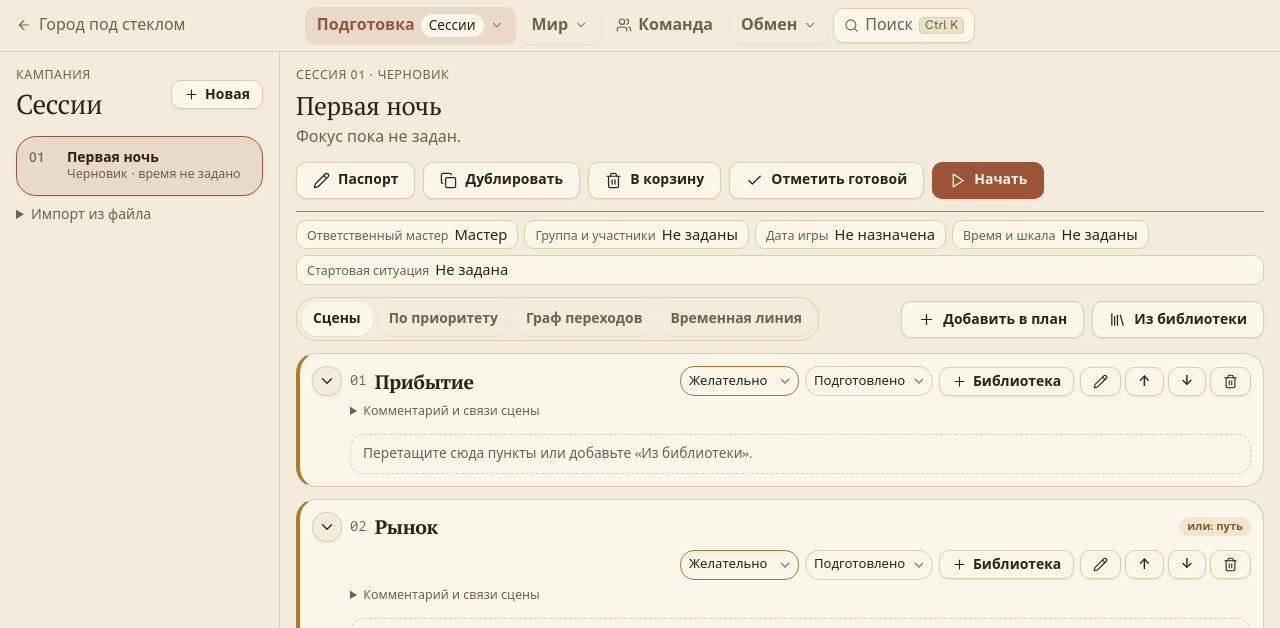
Test: stage 3: plan › shows forks on the timeline and opens the transitions graph
What coordinates should you click on to do the following:
click the button "Временная линия"
I would click on:
 (736, 319)
Its box is [658,302,814,336].
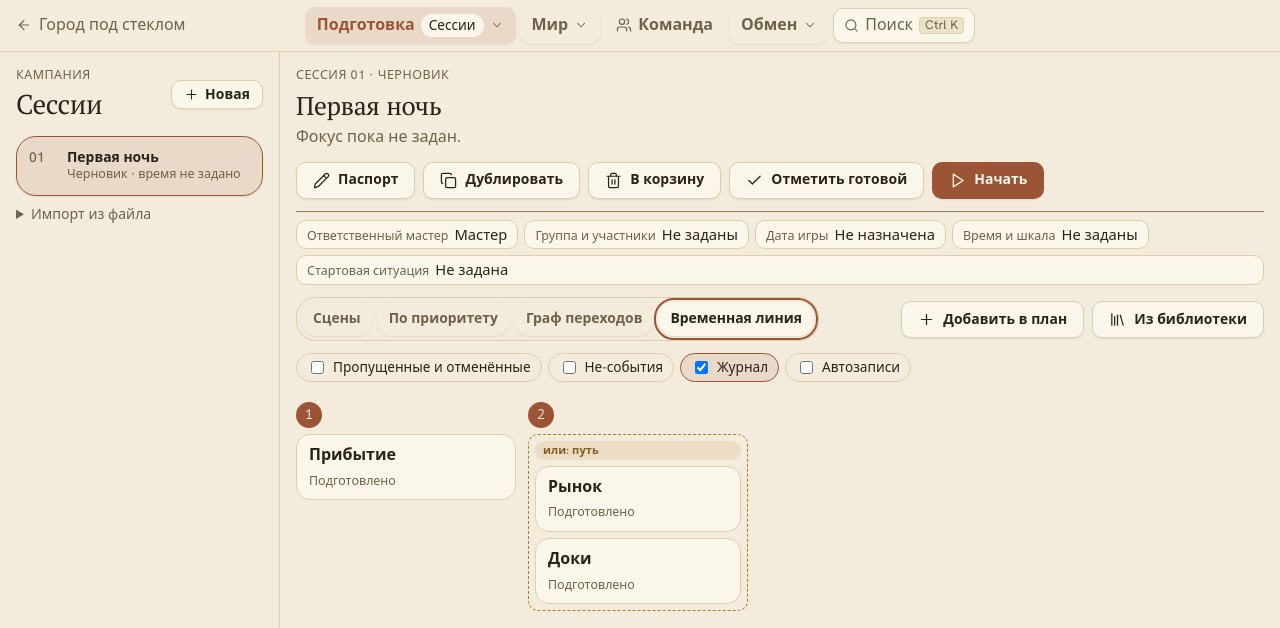
Expected: the text "Рынок" is shown, [548,476,602,497]
Expected: the text "Доки" is shown, [548,548,592,569]
What coordinates should you click on to do the following:
click the button "Граф переходов"
I would click on:
 (584, 319)
Its box is [514,302,654,336].
(page scrolled)
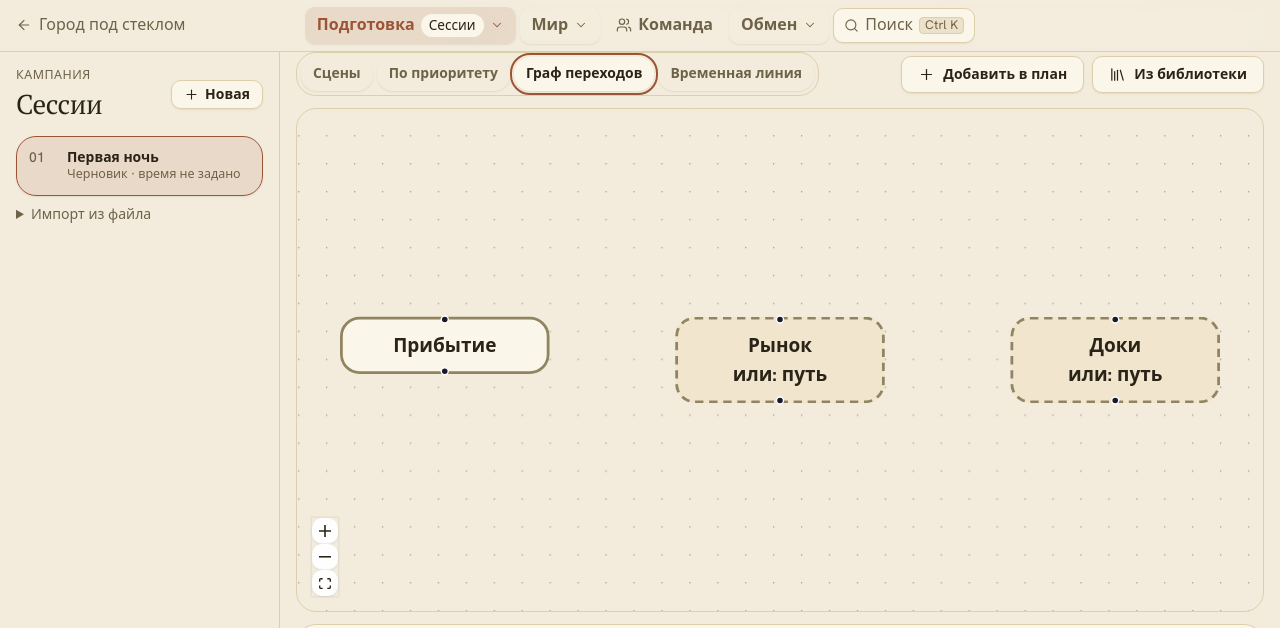
Expected: the element named "Граф переходов" is shown
